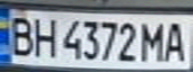2: (115, 18, 142, 63)
3: (78, 17, 103, 61)
4: (57, 16, 84, 60)
7: (96, 18, 121, 62)
A: (160, 18, 190, 63)
B: (3, 14, 39, 57)
H: (30, 14, 60, 58)
M: (139, 18, 169, 63)
